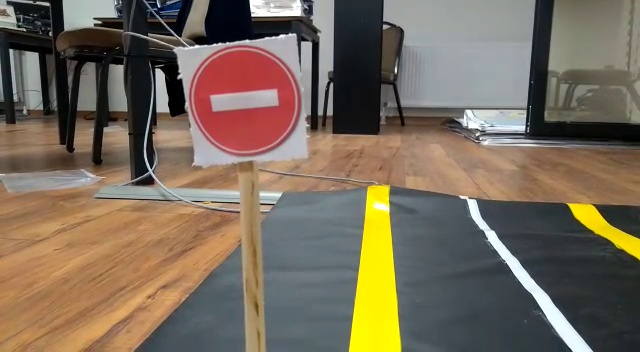girisi_olmayan_yol: (175, 44, 303, 156)
